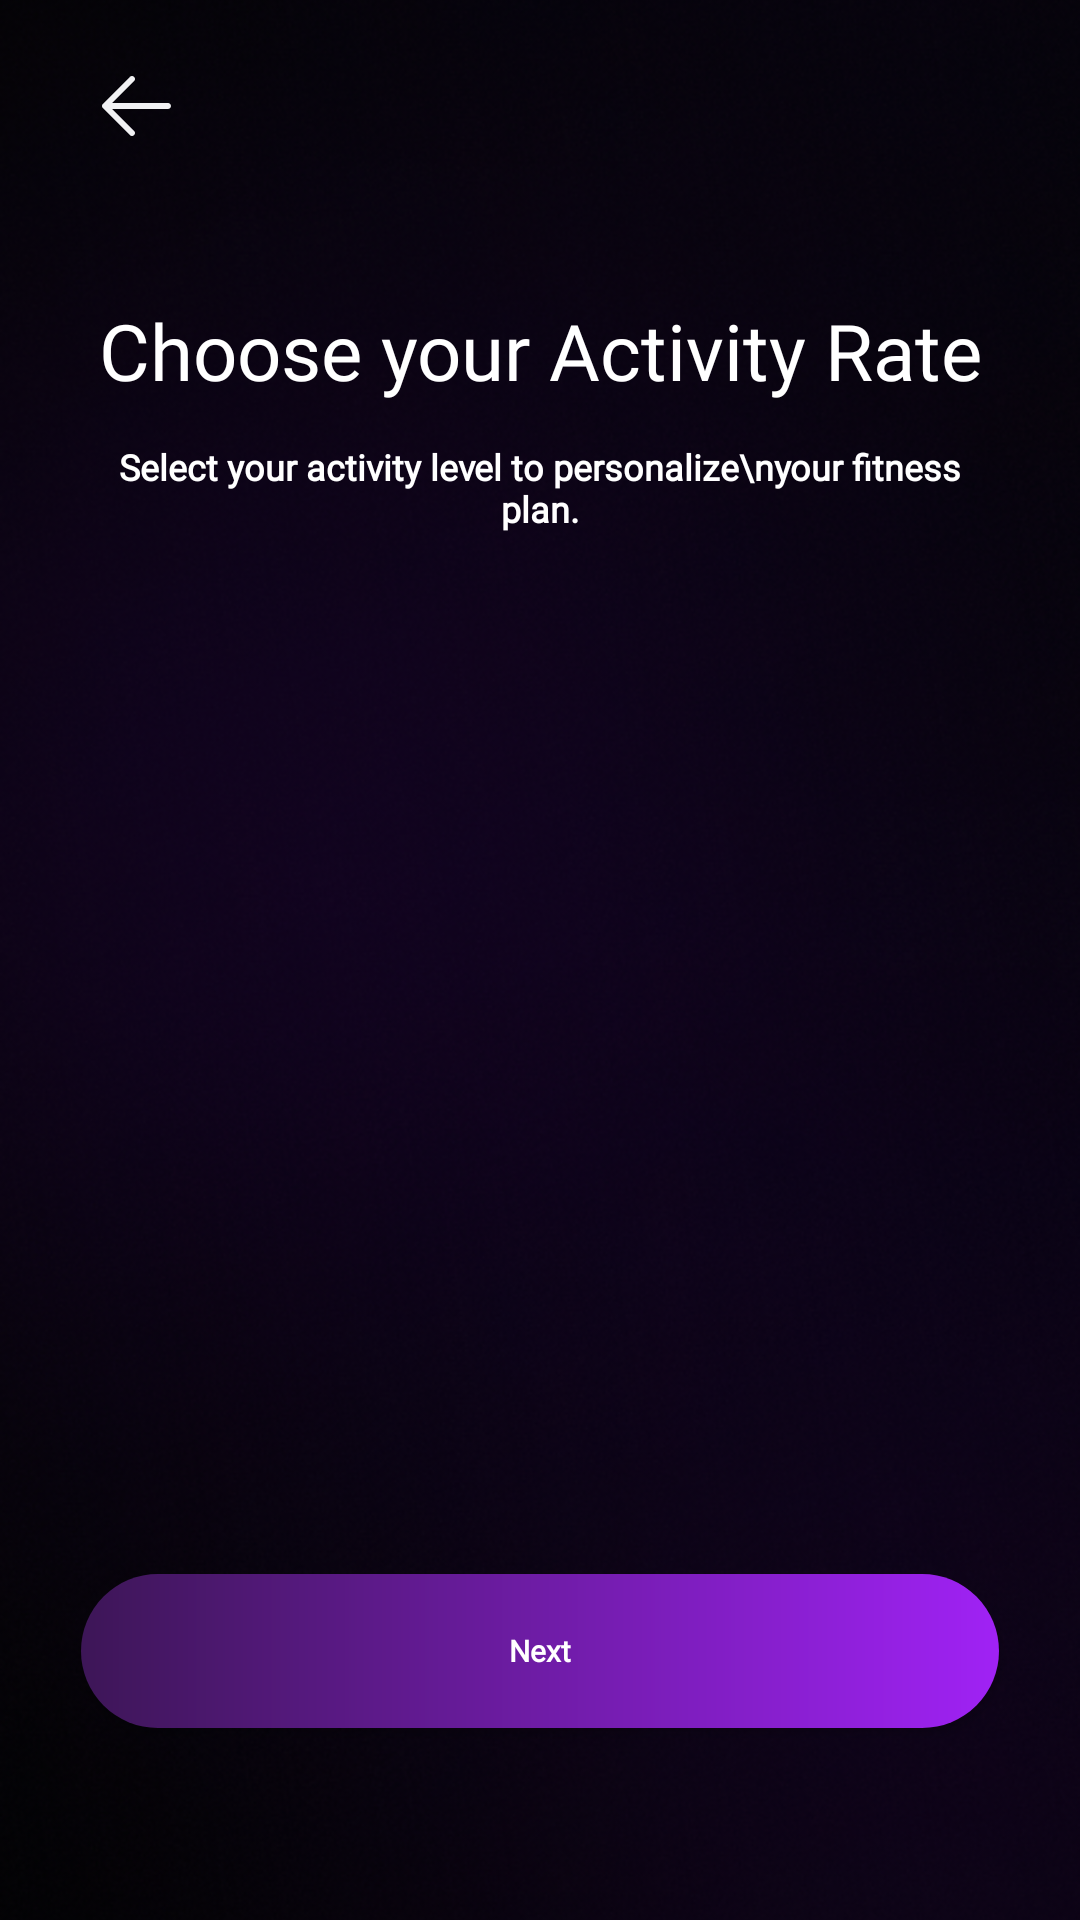

Named icons in this screenshot (1080px×1920px) and their bounding boxes, (x1, y1, x2, y2):
back: (102, 76, 171, 136)
